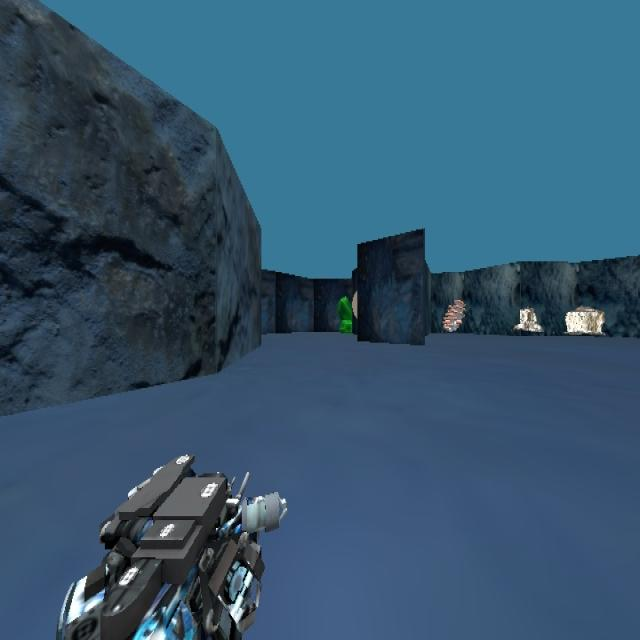Alien: (336, 294, 353, 334)
Ice: (562, 296, 632, 343), (511, 299, 542, 345)
Mushroom: (436, 280, 487, 340)
